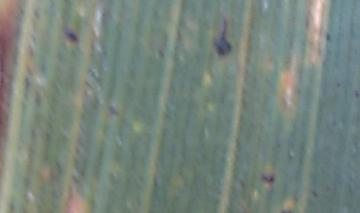tarspot: (214, 17, 233, 58), (63, 30, 80, 42), (262, 172, 276, 184), (107, 104, 118, 116), (310, 189, 319, 199), (353, 88, 360, 97), (325, 31, 331, 41), (335, 80, 342, 88)
